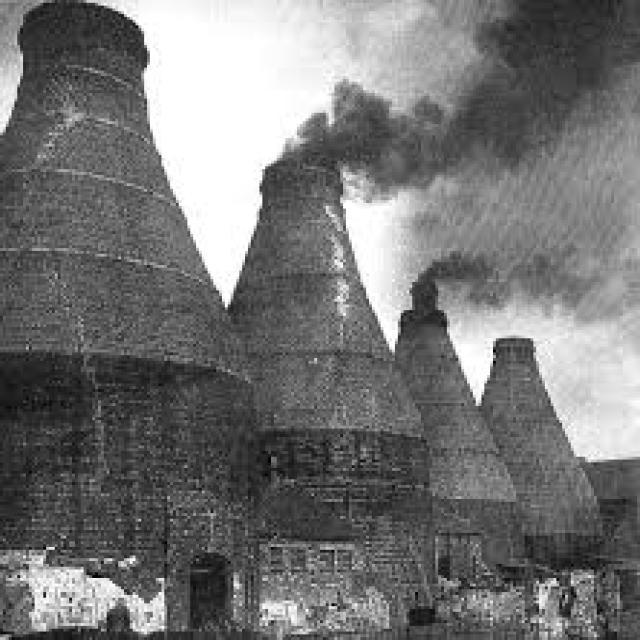Smoke: (270, 0, 640, 324)
